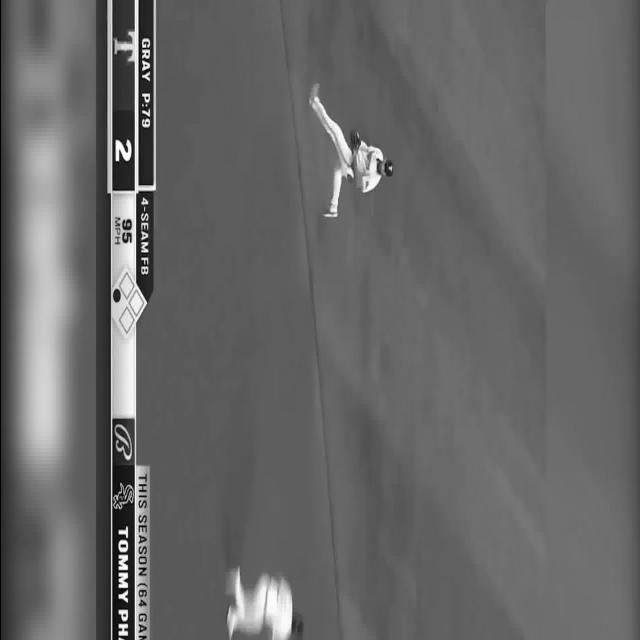baseball_glove: (350, 129, 360, 155)
shoe: (308, 82, 319, 107), (226, 604, 233, 638), (322, 206, 338, 218)
